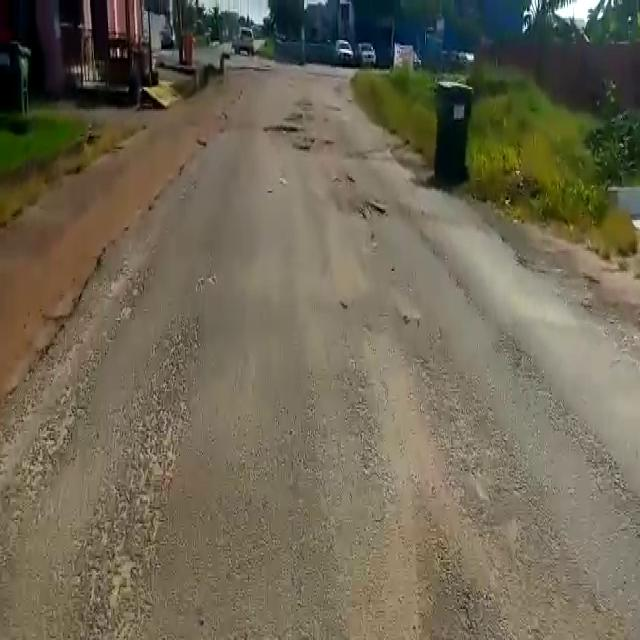Pothole: (265, 119, 305, 135), (359, 202, 386, 221)
